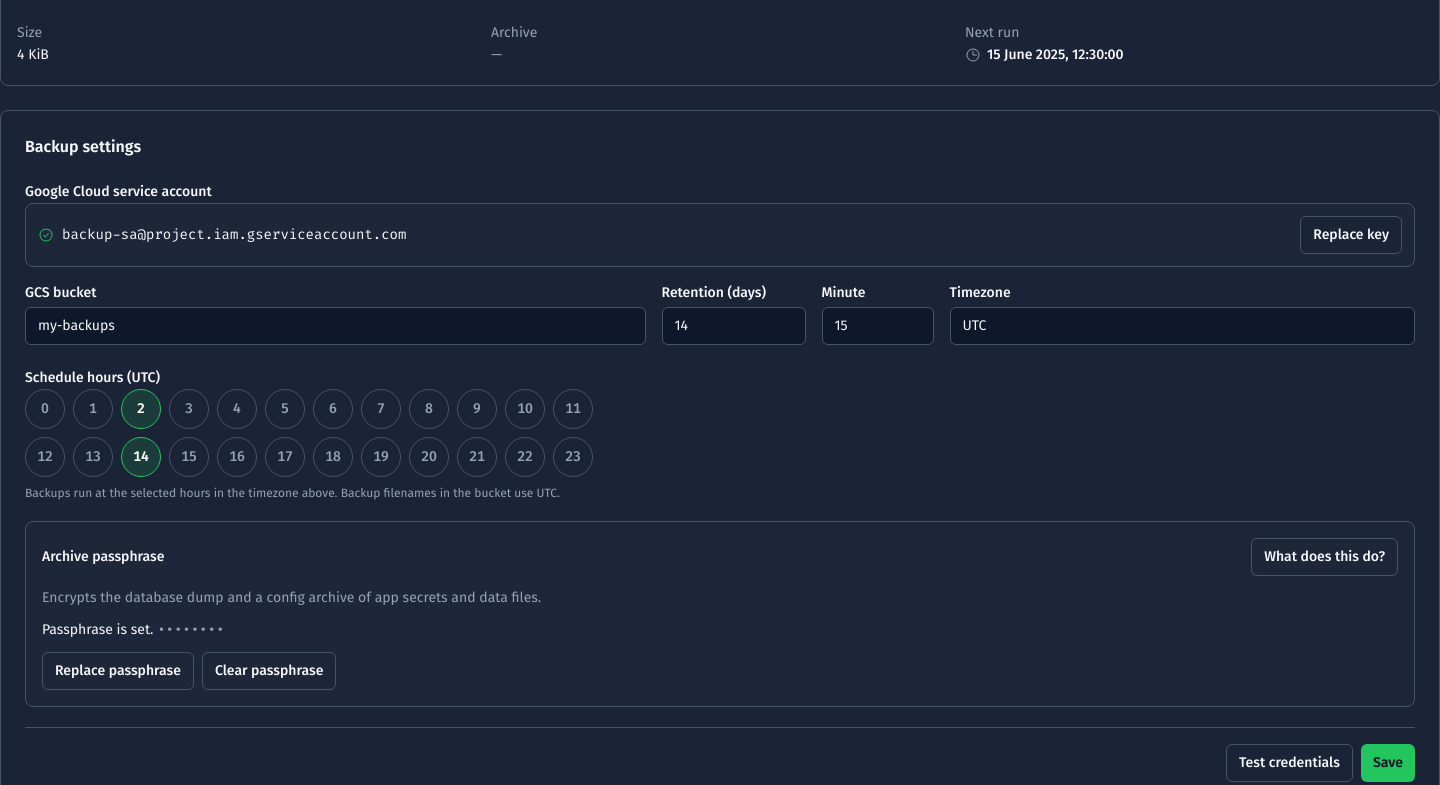
BackupsPage › shows the server error detail when saving backup settings fails
(page scrolled)
Click the button "Save" at point(1388, 763), box x1=1361 y1=744 x2=1415 y2=782
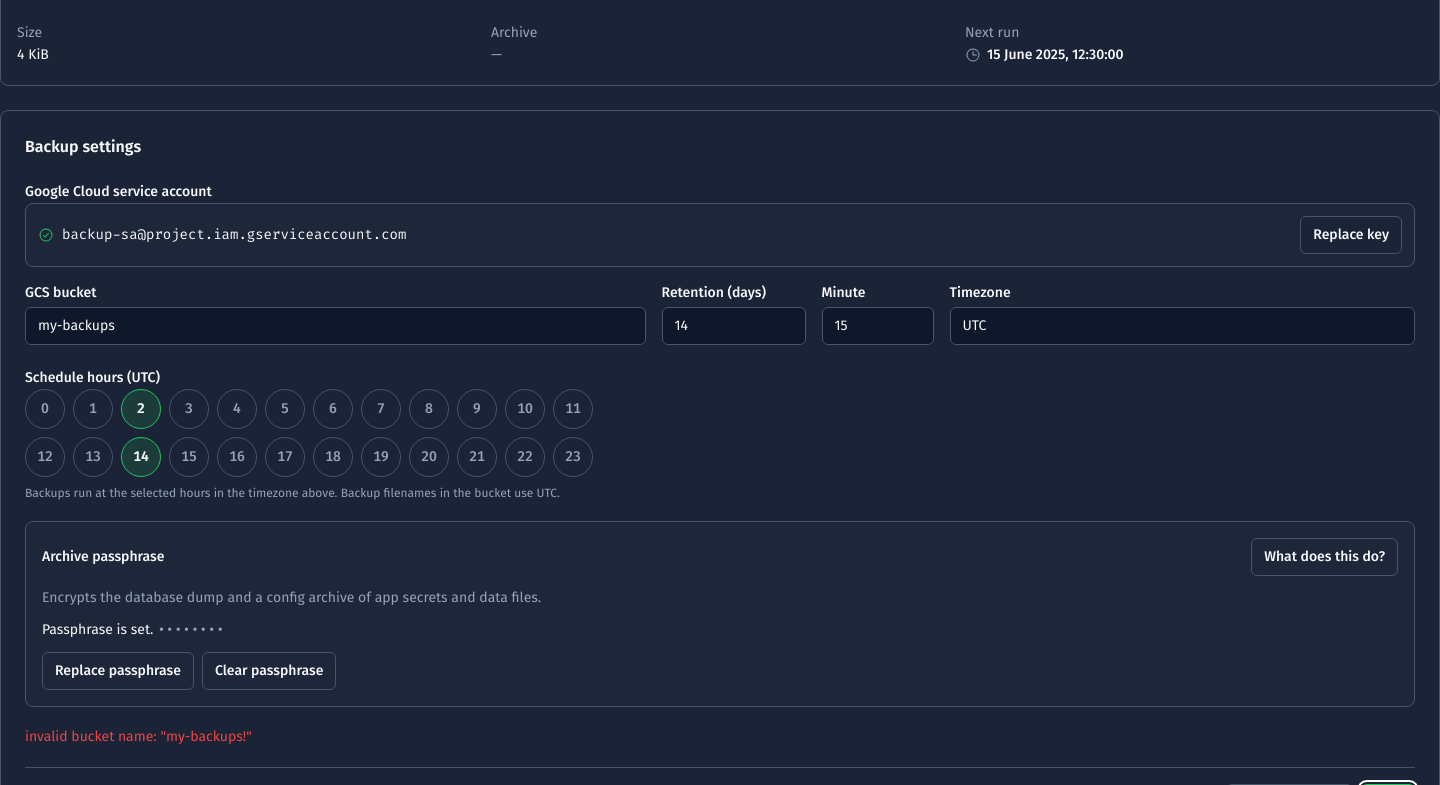
Now the text "invalid bucket name: \"my-backups!\"" is shown, box x1=25 y1=728 x2=252 y2=745
